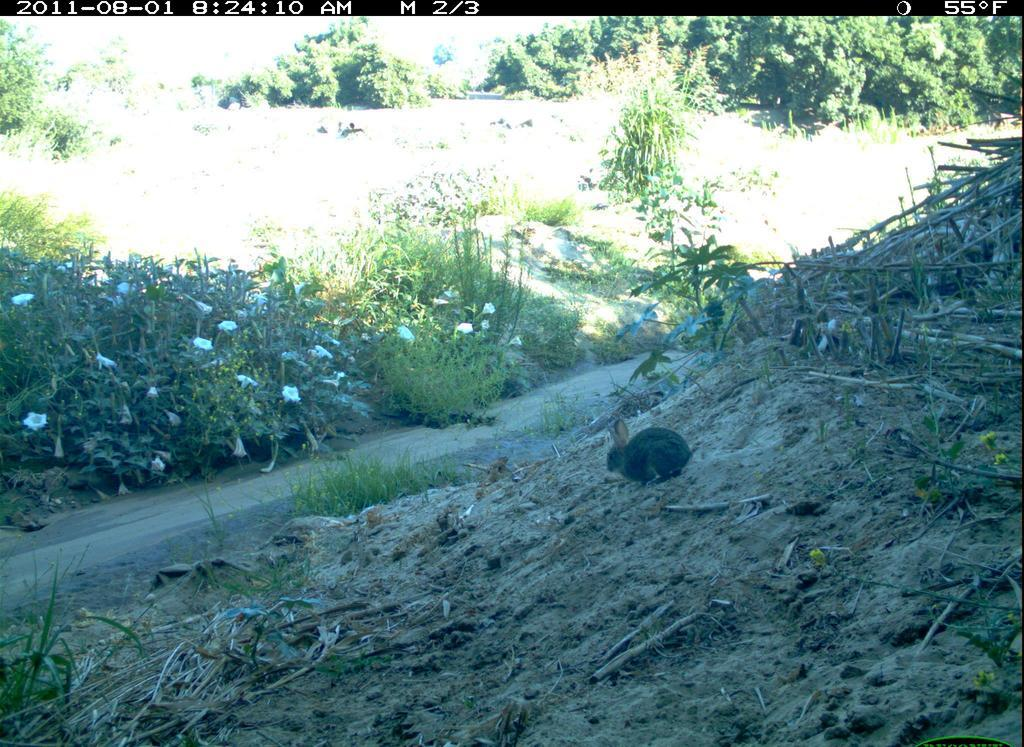rabbit: (600, 409, 698, 497)
